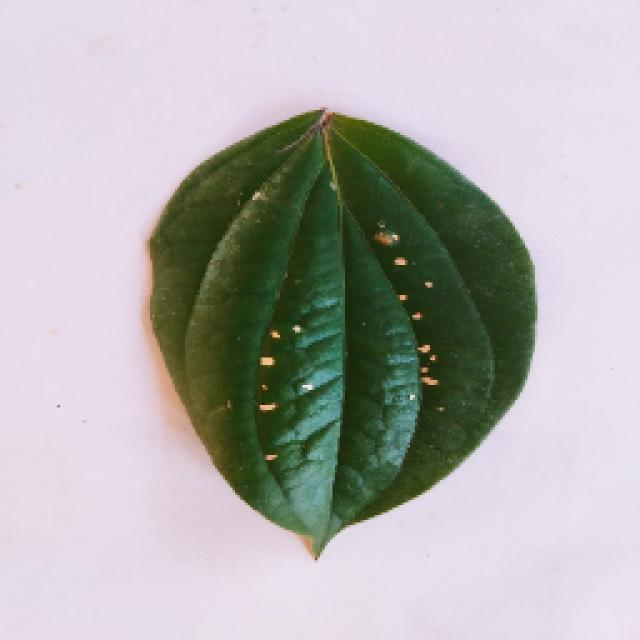pollu-disease: (132, 100, 550, 552)
